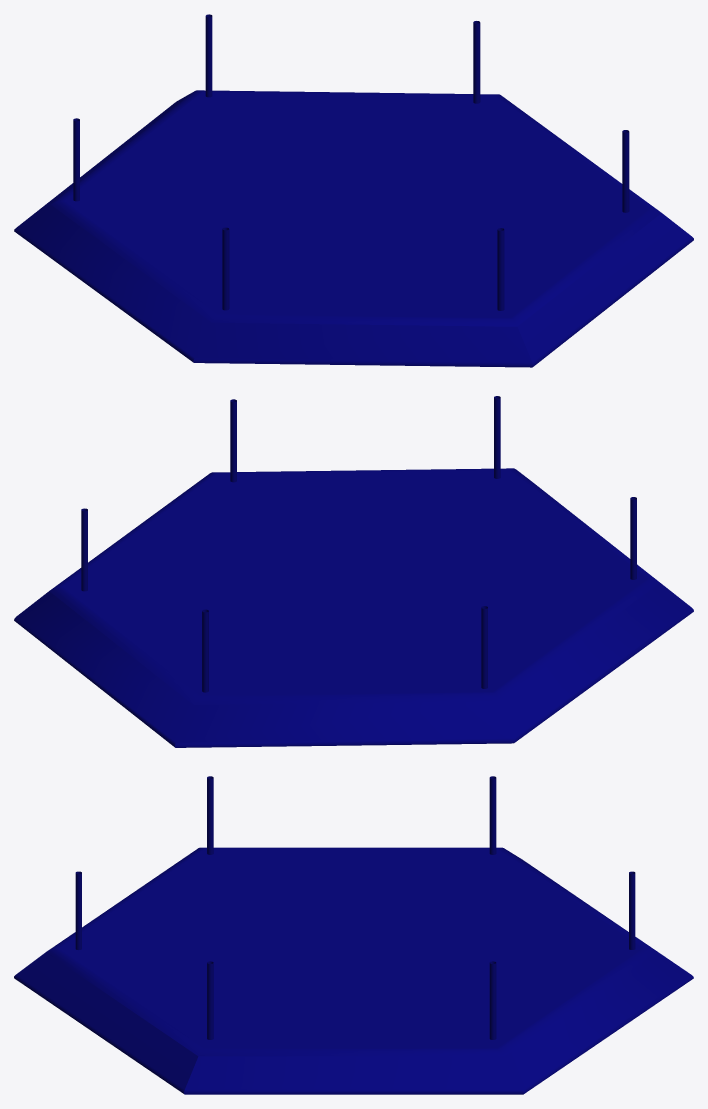
The model's file is Chandelier_Mesh.fbx.
The picture shows the model from 3 angles, top to bottom: view 1: azimuth 30°, elevation 25°; view 2: azimuth 150°, elevation 25°; view 3: azimuth 270°, elevation 25°; orthographic projection. The views are drawn at different scales.
Visible parts, largest first — view 1: Chandelier_Mesh; view 2: Chandelier_Mesh; view 3: Chandelier_Mesh.
Boxes of the visible parts, bbox=[...] form: Chandelier_Mesh: bbox=[14, 14, 693, 367]; Chandelier_Mesh: bbox=[14, 396, 693, 747]; Chandelier_Mesh: bbox=[14, 776, 693, 1094].
Bounding box in the file's own units: 104 × 22.65 × 130.
